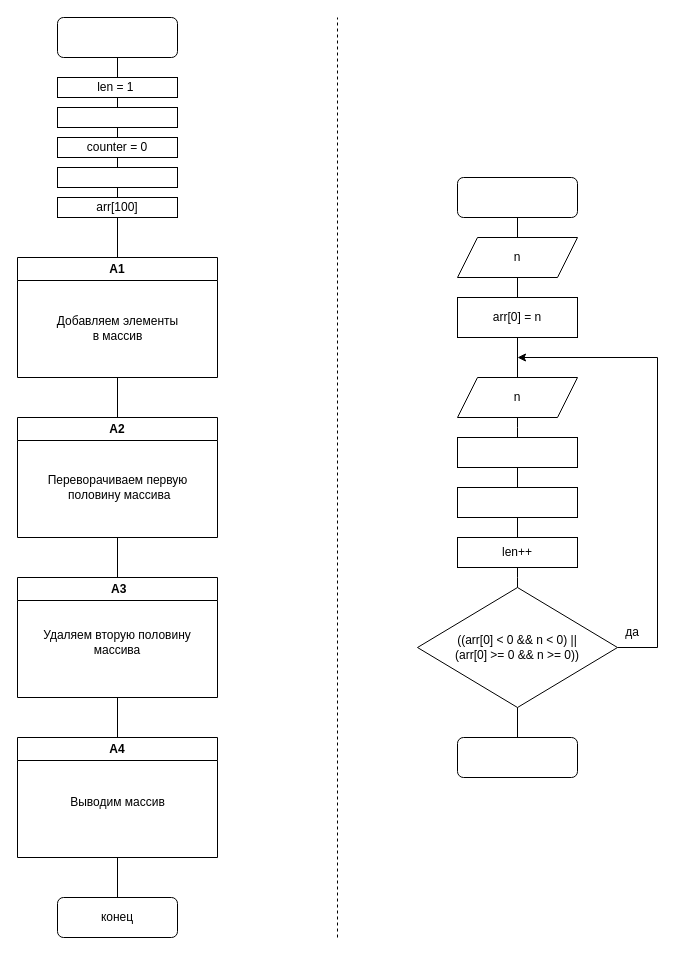
Some shapes in this 683 by 956 pixel diagram are drawn without their labels. Each missing label, with the centre of its shape:
A1 конец: pixel 517 757
A1 начало: pixel 517 197
arr[i] = n: pixel 517 452
i = 1: pixel 117 177
i++: pixel 517 502
temp: pixel 117 117
начало: pixel 117 37
